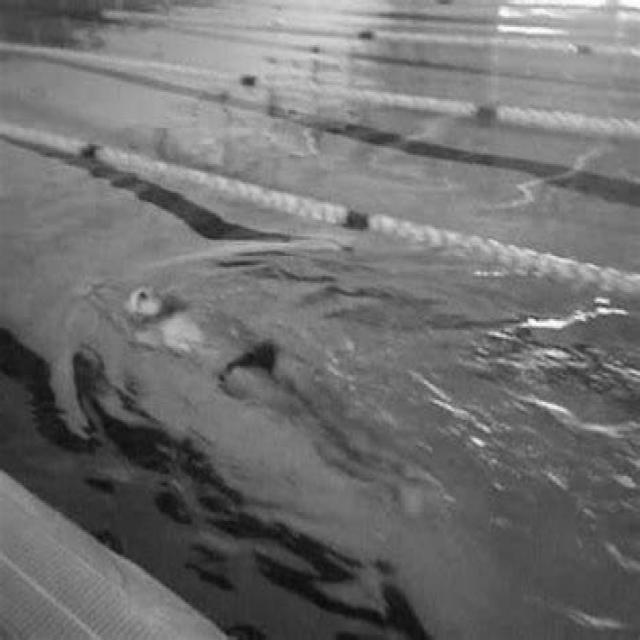swimming: (74, 270, 463, 482)
